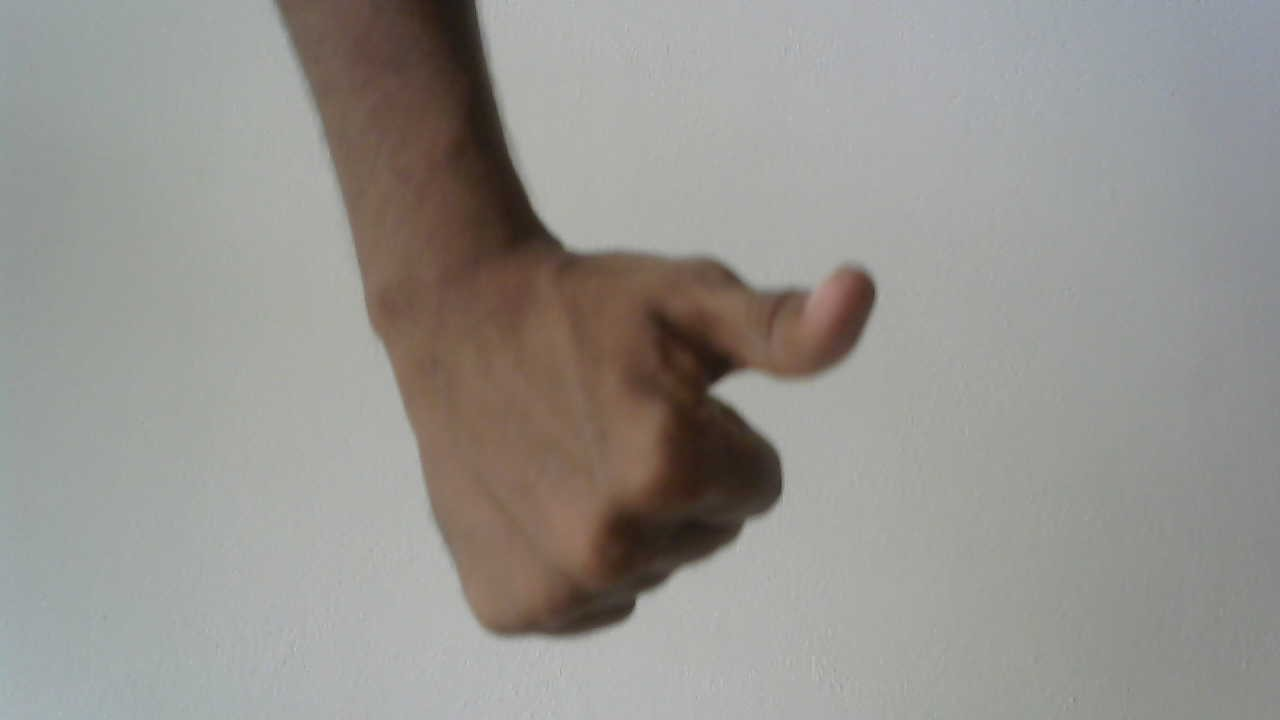thumbsup: (337, 241, 889, 657)
